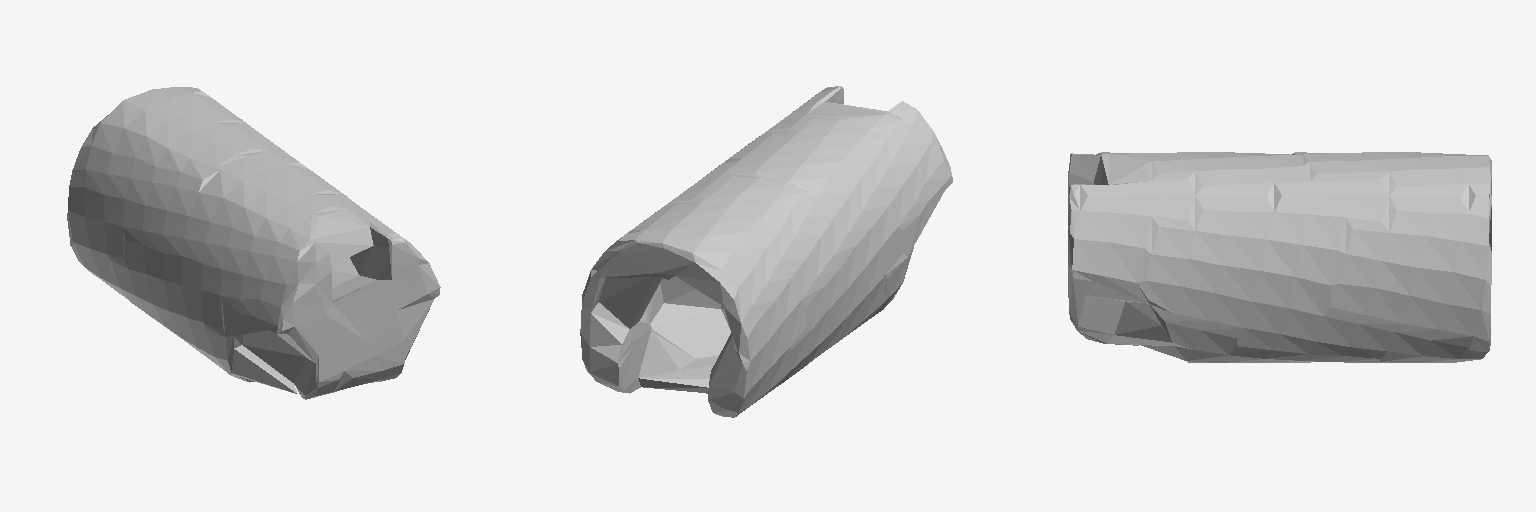
Rendered from sim_ecub_1-0_l_hand_index_2.obj.
3 renders of one model, left to right at view 1: azimuth 30°, elevation 25°; view 2: azimuth 150°, elevation 25°; view 3: azimuth 270°, elevation 25°, orthographic.
Size of the model in its own units: 16.99 by 17.26 by 36.5.